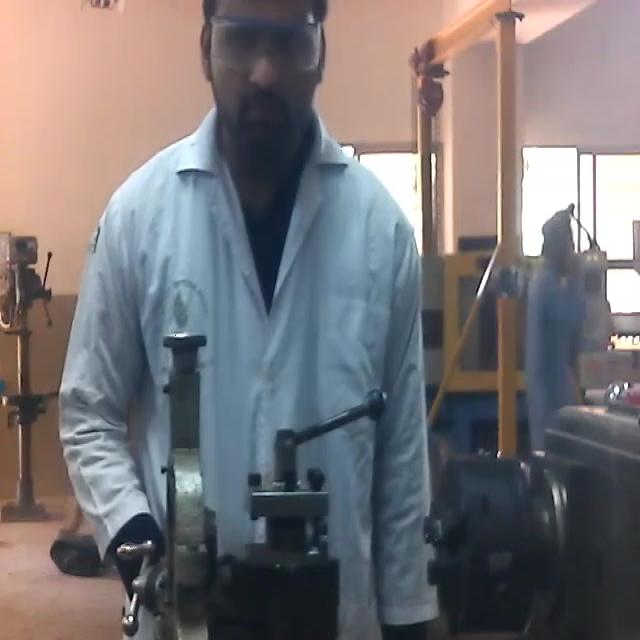googles: (205, 13, 323, 90)
labcoat: (49, 100, 442, 640)
